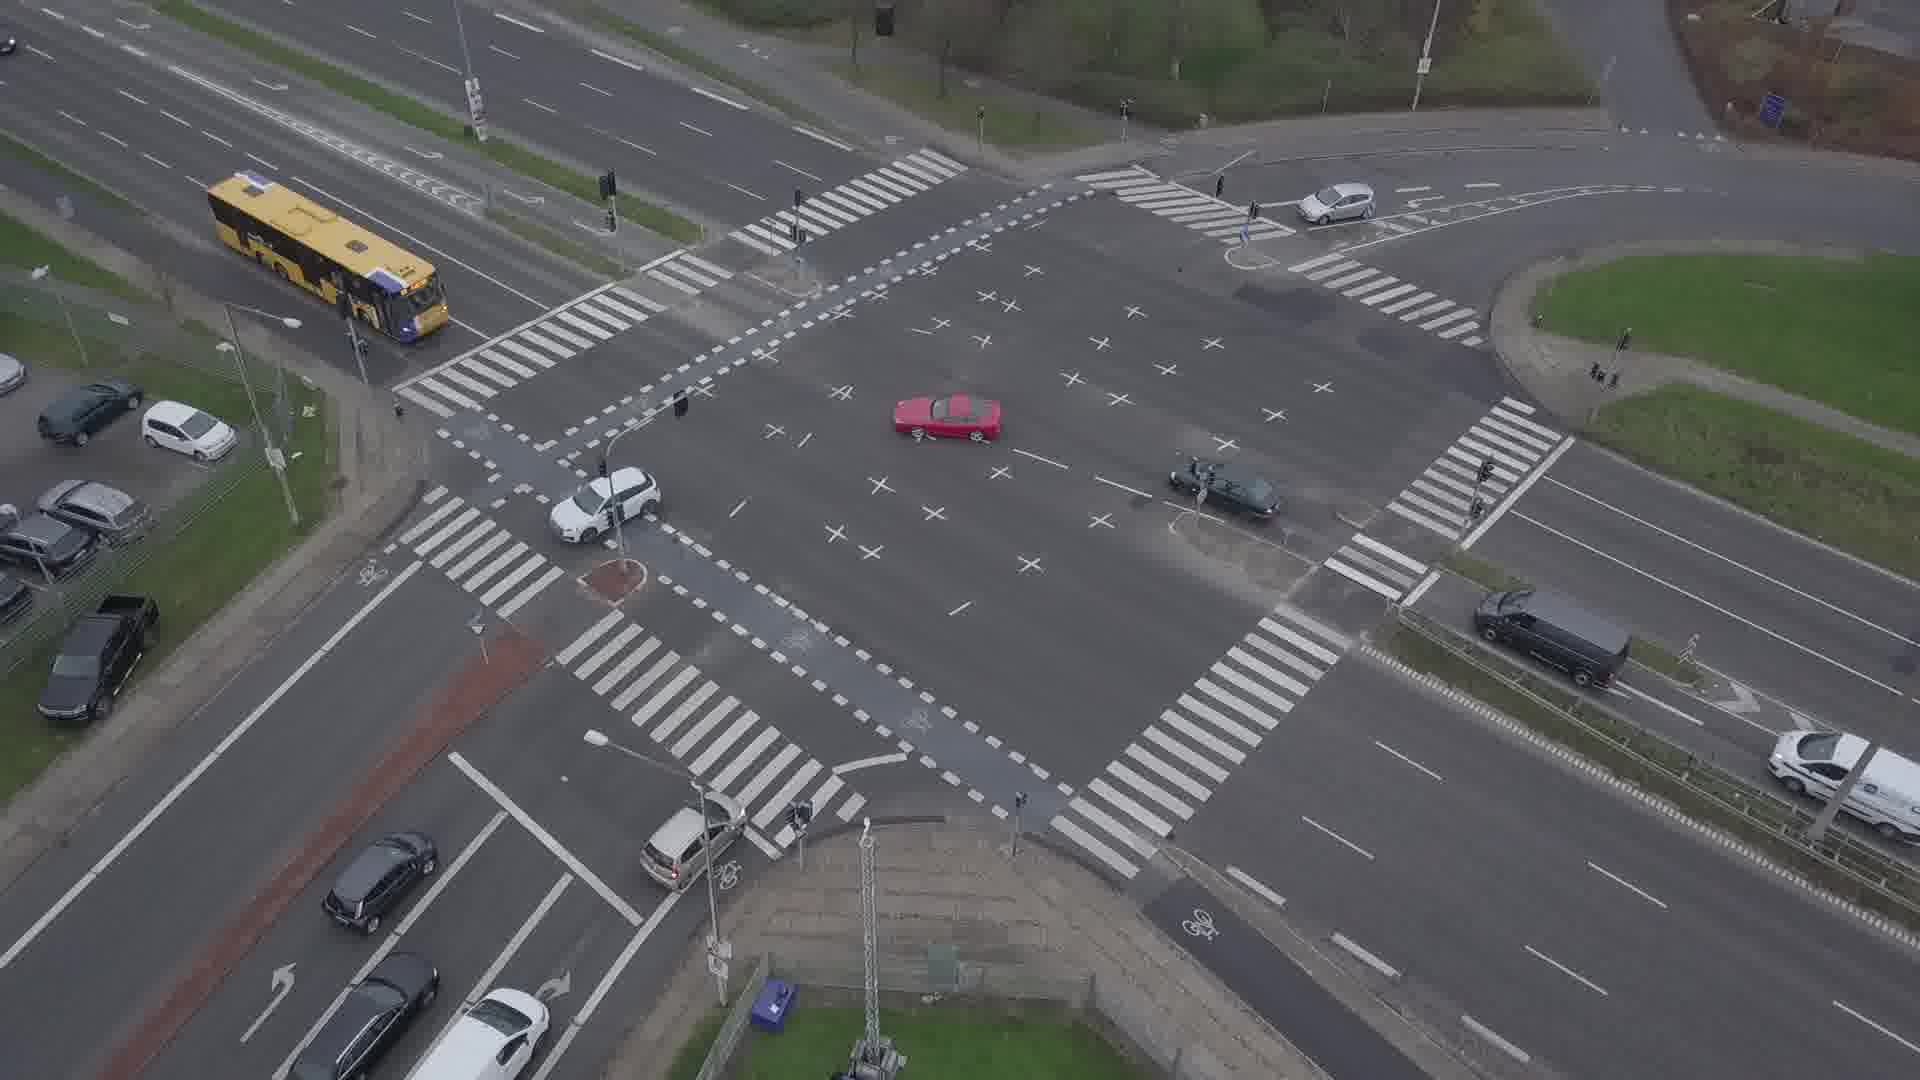car: (287, 949, 440, 1080), (320, 829, 438, 934), (640, 790, 748, 891), (550, 467, 662, 545), (1168, 460, 1284, 524), (894, 397, 1004, 444), (1298, 182, 1375, 225), (0, 28, 16, 57)
